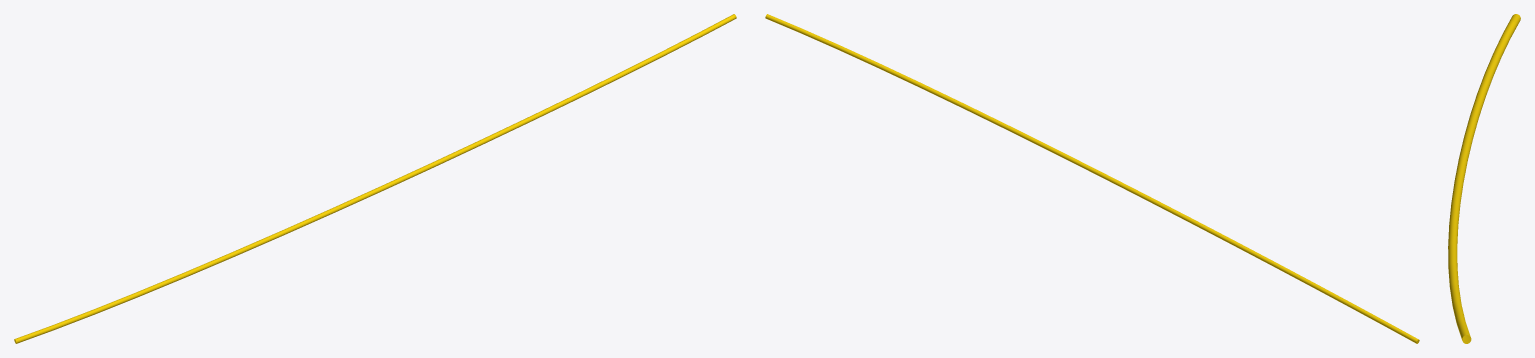
The model's file is Event_421364160_track_21.fbx.
3 views of the same model, side by side, from view 1: azimuth 30°, elevation 25°; view 2: azimuth 150°, elevation 25°; view 3: azimuth 270°, elevation 25° (orthographic). The views are drawn at different scales.
Parts seen in each view (by area): view 1: Model; view 2: Model; view 3: Model.
Boxes of the visible parts, bbox=[...] form: Model: bbox=[14, 14, 736, 343]; Model: bbox=[765, 14, 1419, 343]; Model: bbox=[1448, 14, 1520, 343].
Bounding box in the file's own units: 6.28 × 1.43 × 0.3159.
